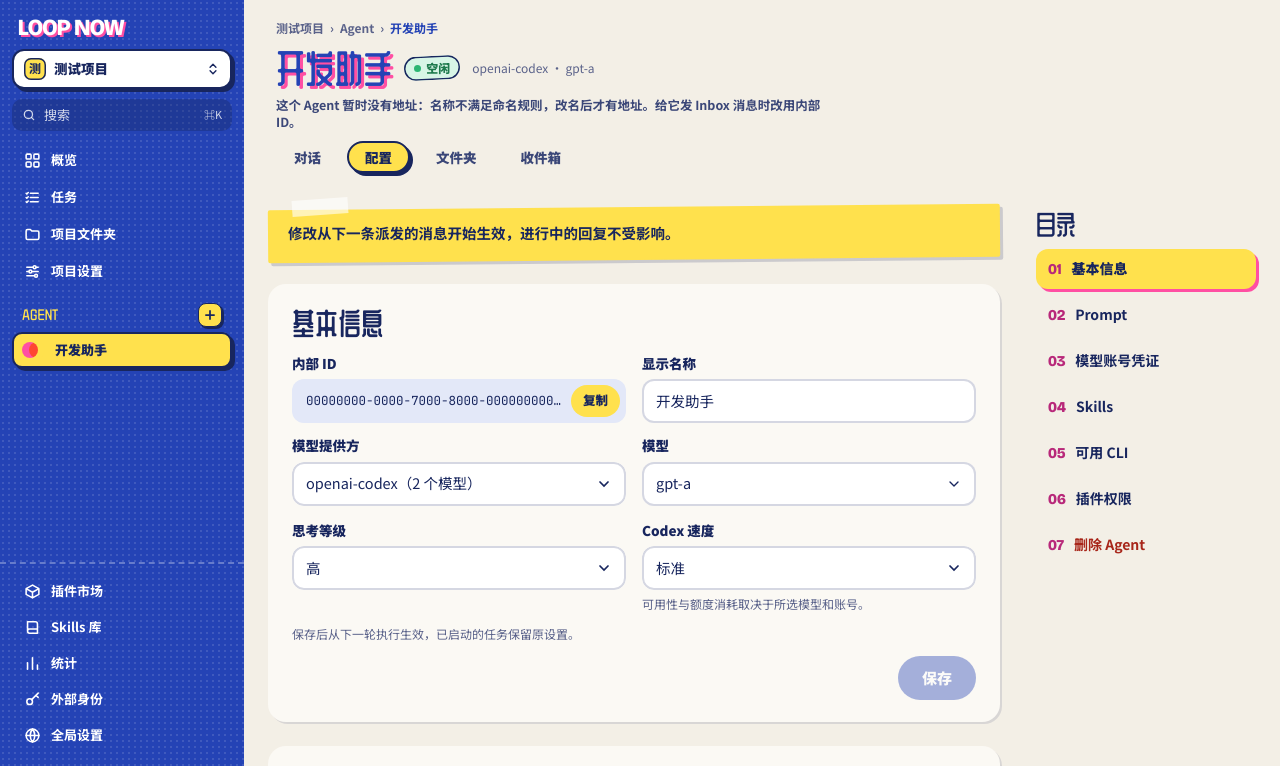
422字段错误保留速度与其他草稿，不自动回退
Expected: the element "基本信息" is shown, [268, 284, 1000, 722]
Expected: the dropdown labelled "思考等级" is enabled, [292, 546, 626, 590]
In the field labelled "显示名称": (809, 401) [642, 379, 976, 423], type "2"
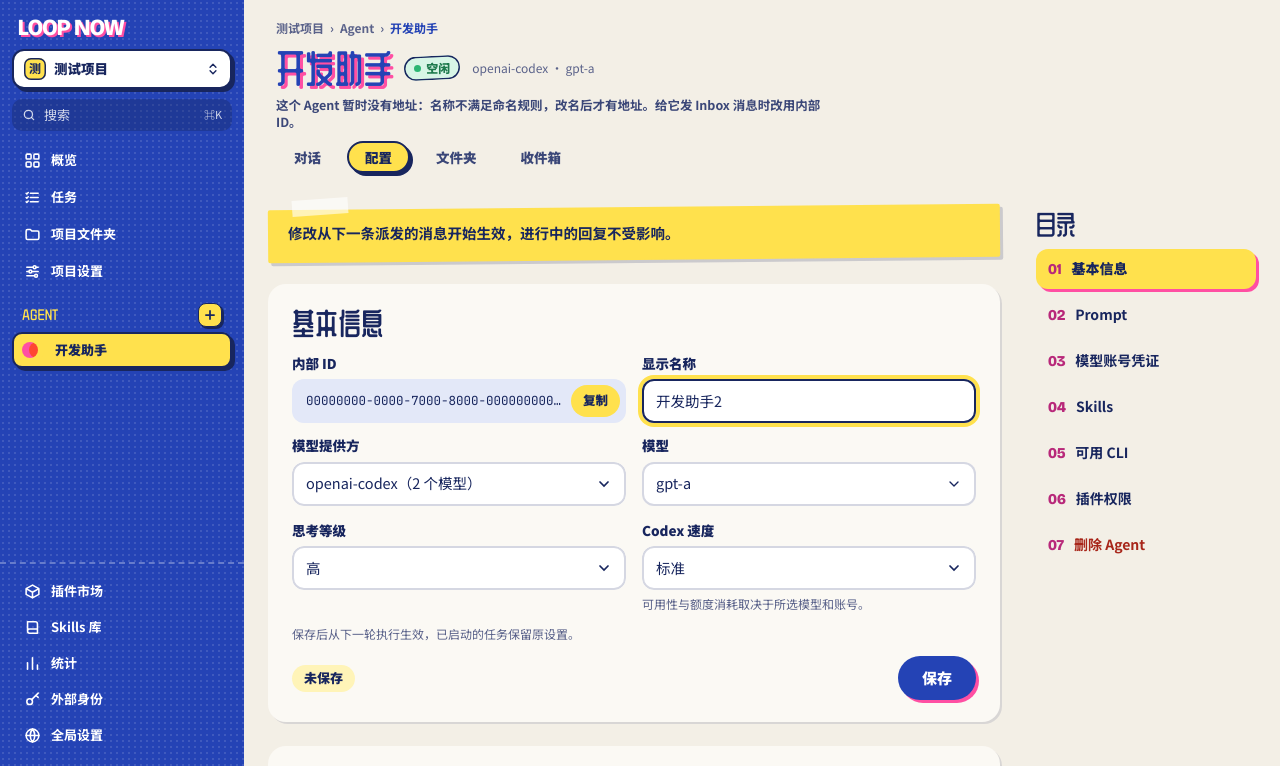
Select "Ultrafast" in the dropdown labelled "Codex 速度": (809, 568) [642, 546, 976, 590]
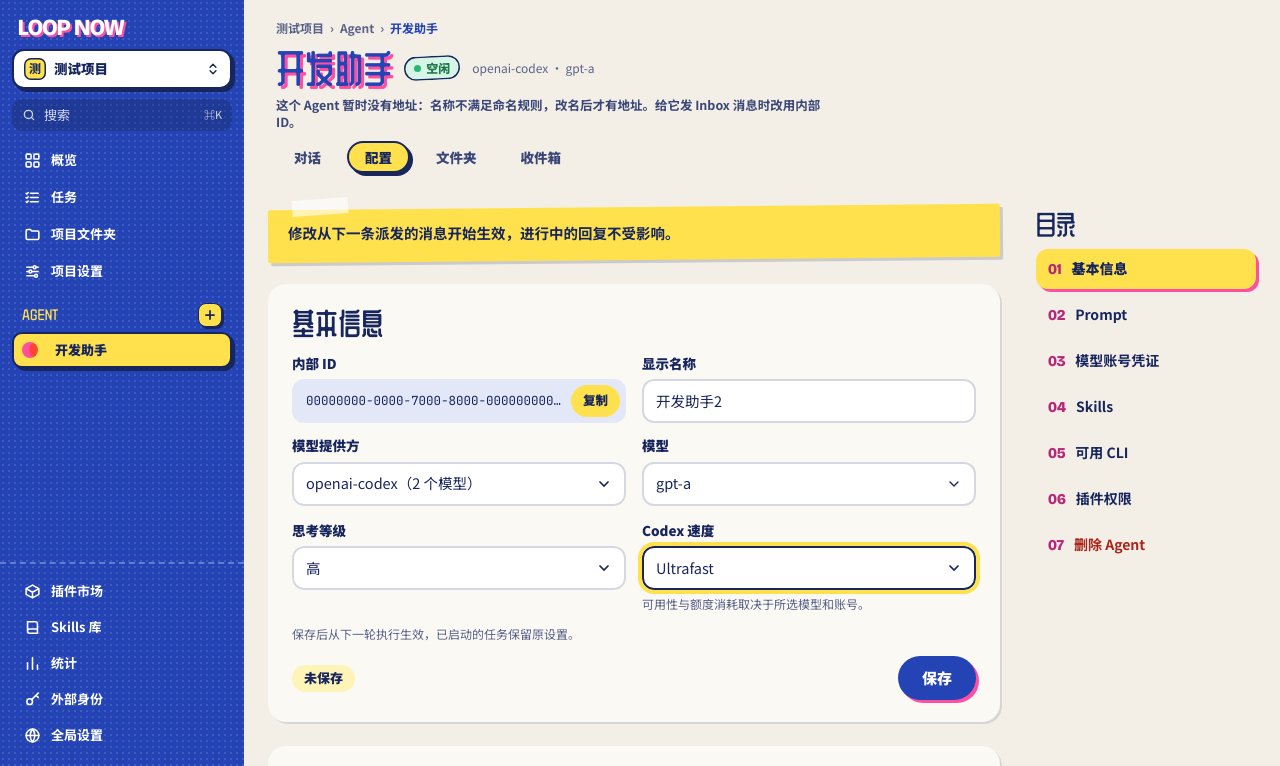
Click the button "保存": (937, 678) [898, 656, 976, 700]
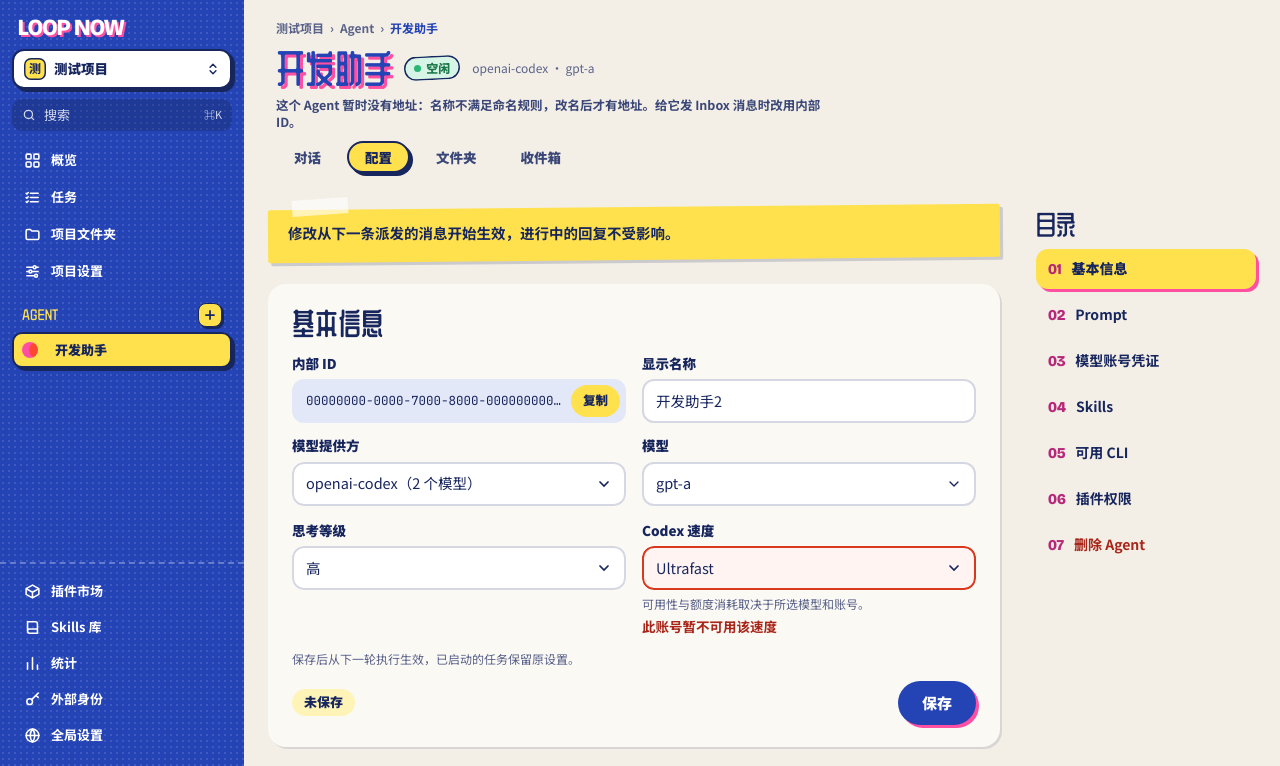
Result: the field labelled "显示名称" holds "开发助手2" at [642, 379, 976, 423]
Result: the button "保存" is enabled at [898, 681, 976, 725]
Result: the text "此账号暂不可用该速度" is shown at [642, 618, 777, 635]
